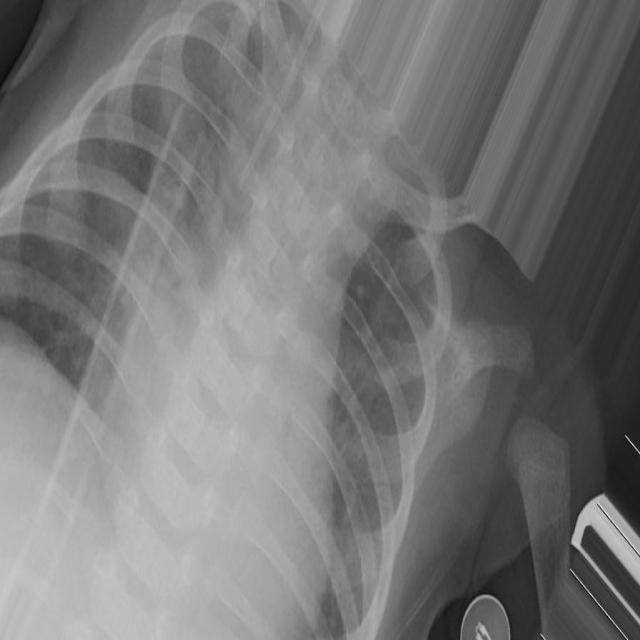bacterial_pneumonia: (3, 0, 640, 640), (1, 0, 640, 618)
